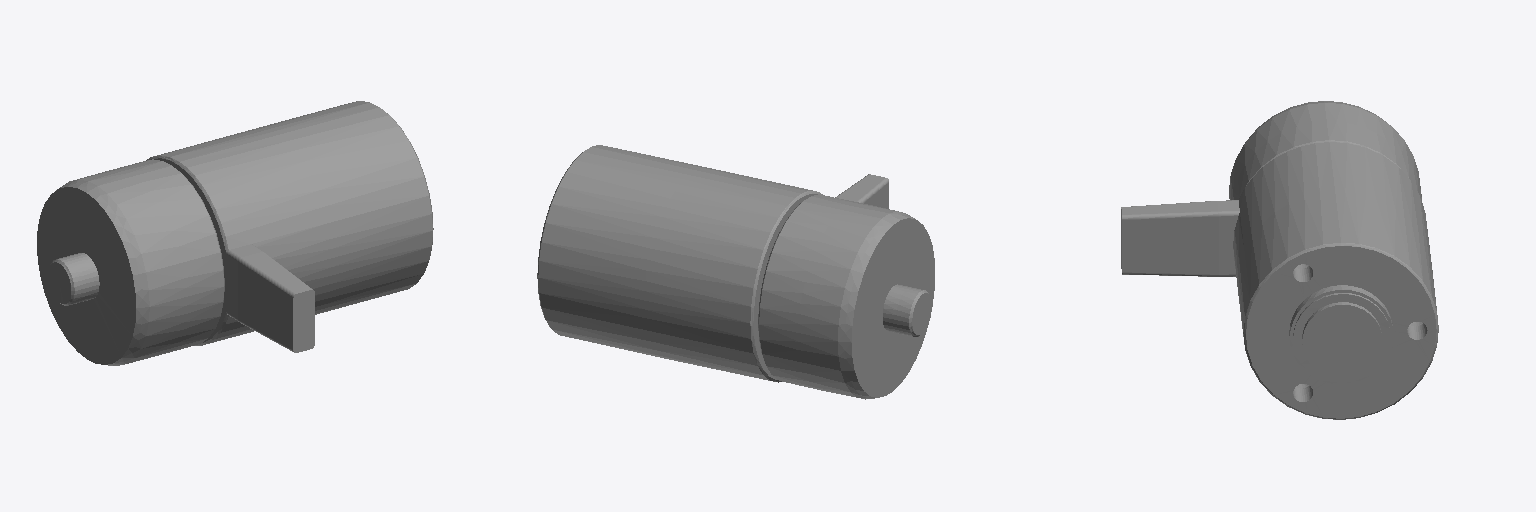
File: motor_left_rear.obj
3 renders of one model, left to right at view 1: azimuth 30°, elevation 25°; view 2: azimuth 150°, elevation 25°; view 3: azimuth 270°, elevation 25°, orthographic.
Parts seen in each view (by area): view 1: Body2.008; view 2: Body2.008; view 3: Body2.008.
Boxes of the visible parts, box(x1,y1,x2,y2) form: Body2.008: box(37, 101, 433, 365); Body2.008: box(537, 145, 934, 399); Body2.008: box(1121, 101, 1438, 419).
Size of the model in its own units: 0.0507 by 0.0244 by 0.0396.